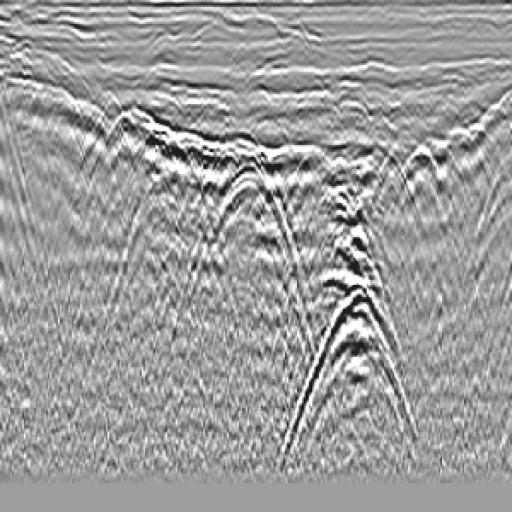metalic: (184, 121, 321, 274)
